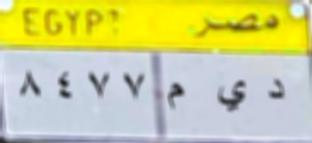4: (56, 68, 75, 102)
7: (120, 67, 148, 102), (87, 68, 112, 100)
8: (18, 68, 42, 104)
daal: (265, 75, 292, 105)
meem: (164, 80, 185, 112)
yaa: (211, 75, 249, 116)
